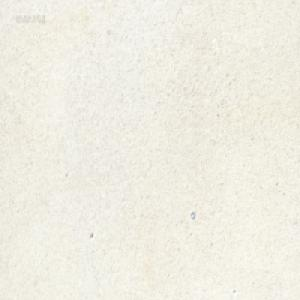Washer: (190, 210, 195, 219)
